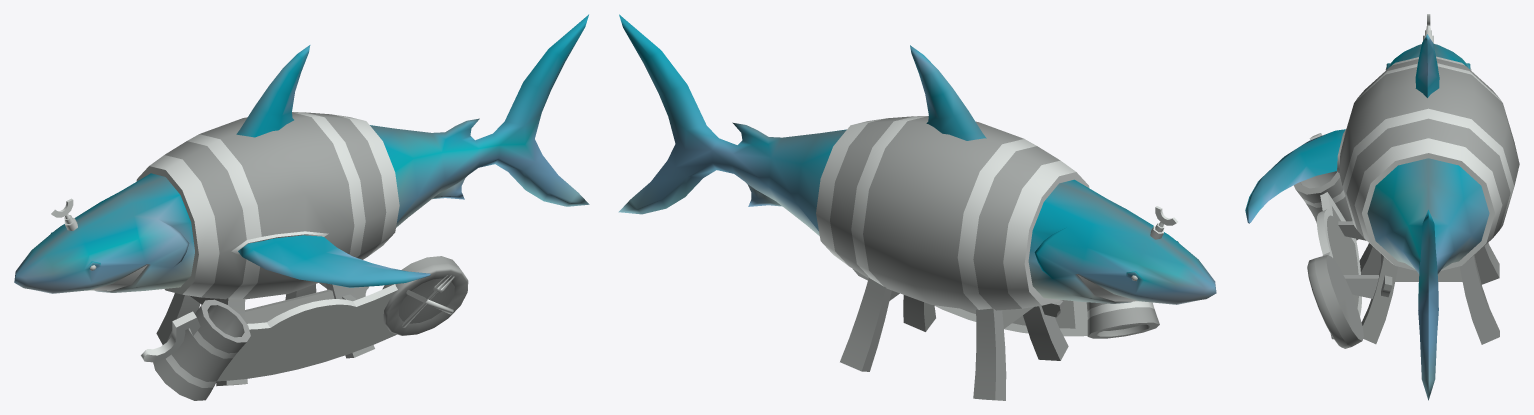
3 renders of one model, left to right at view 1: azimuth 30°, elevation 25°; view 2: azimuth 150°, elevation 25°; view 3: azimuth 270°, elevation 25°, orthographic. The views are drawn at different scales.
Visible parts, largest first — view 1: G:\FFXIV-MapTools\exports\s1f3\bg\ffxiv\sea_s1\fld\s1f3\bgpa (×4); view 2: G:\FFXIV-MapTools\exports\s1f3\bg\ffxiv\sea_s1\fld\s1f3\bgpa (×4); view 3: G:\FFXIV-MapTools\exports\s1f3\bg\ffxiv\sea_s1\fld\s1f3\bgpa (×4).
Part boxes in pixels (<box>): G:\FFXIV-MapTools\exports\s1f3\bg\ffxiv\sea_s1\fld\s1f3\bgpa (×4): <box>14,14,589,400</box>; G:\FFXIV-MapTools\exports\s1f3\bg\ffxiv\sea_s1\fld\s1f3\bgpa (×4): <box>618,14,1216,400</box>; G:\FFXIV-MapTools\exports\s1f3\bg\ffxiv\sea_s1\fld\s1f3\bgpa (×4): <box>1245,14,1519,400</box>.
Bounding box in the file's own units: 12.25 × 6.05 × 5.04.
